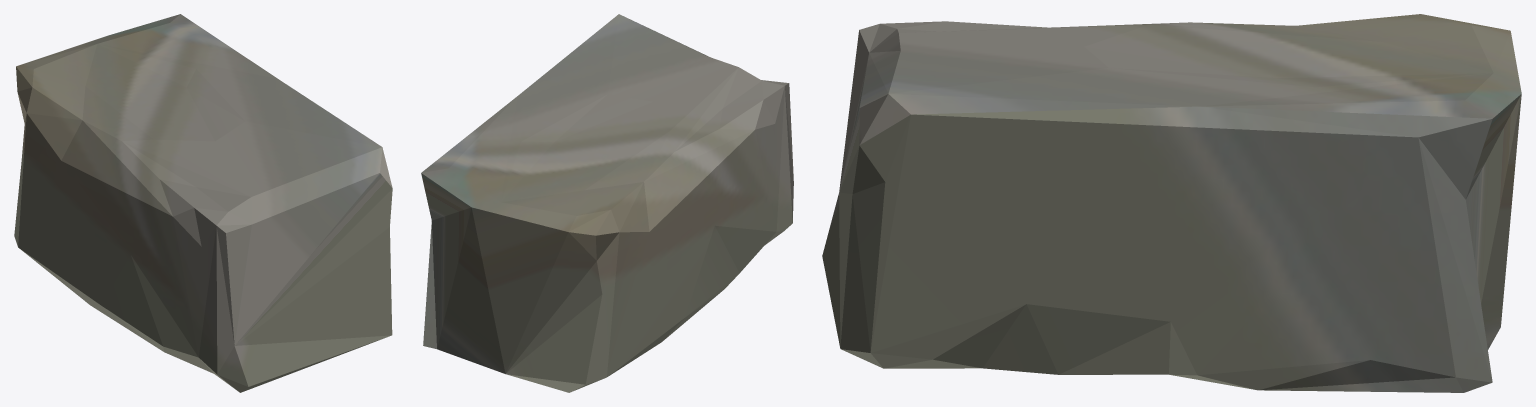
Rendered from Bricks_A.fbx.
3 renders of one model, left to right at view 1: azimuth 30°, elevation 25°; view 2: azimuth 150°, elevation 25°; view 3: azimuth 270°, elevation 25°, orthographic. The views are drawn at different scales.
Parts seen in each view (by area): view 1: Bricks_A; view 2: Bricks_A; view 3: Bricks_A.
Part boxes in pixels (x1,y1,x2,y2): Bricks_A: (14,14,392,392); Bricks_A: (421,14,793,392); Bricks_A: (822,14,1521,392).
Size of the model in its own units: 0.378 by 0.4195 by 0.8425.
